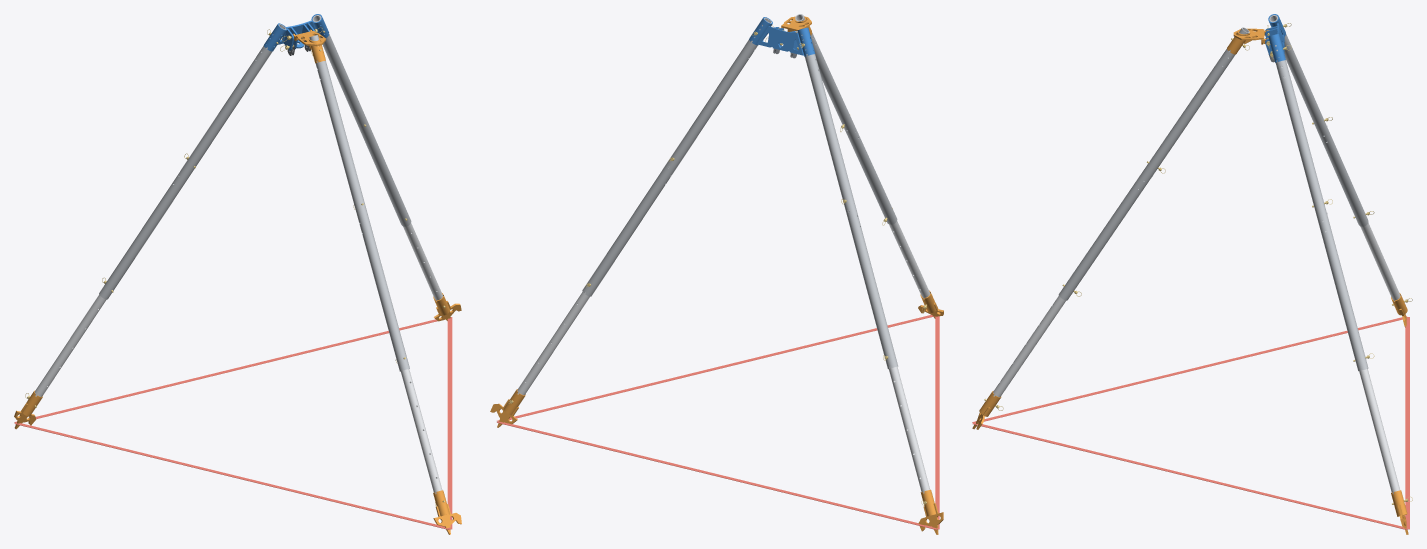
The model's file is tripode_v8.glb.
3 renders of one model, left to right at view 1: azimuth 30°, elevation 25°; view 2: azimuth 150°, elevation 25°; view 3: azimuth 270°, elevation 25°, orthographic.
Visible parts, largest first — view 1: n37_10G1, n38_10G2, n21_10I1, n22_10I2, n47_M3, n45_M1, n39_13G1, n29_10D1, n46_M2, n30_10D2, n23_13I1, n31_13D1 (+1 smaller); view 2: n21_10I1, n22_10I2, n29_10D1, n30_10D2, n45_M1, n46_M2, n23_13I1, n38_10G2, n31_13D1, n37_10G1, n47_M3, n39_13G1 (+3 smaller); view 3: n29_10D1, n30_10D2, n37_10G1, n38_10G2, n46_M2, n47_M3, n31_13D1, n22_10I2, n21_10I1, n39_13G1, n45_M1, n23_13I1.
Boxes of the visible parts, x1=… form: n37_10G1: x1=309, y1=35, x2=367, y2=217; n38_10G2: x1=358, y1=214, x2=409, y2=371; n21_10I1: x1=181, y1=24, x2=286, y2=175; n22_10I2: x1=99, y1=169, x2=189, y2=299; n47_M3: x1=14, y1=423, x2=450, y2=529; n45_M1: x1=14, y1=319, x2=437, y2=423; n39_13G1: x1=400, y1=369, x2=442, y2=493; n29_10D1: x1=312, y1=15, x2=369, y2=132; n46_M2: x1=447, y1=317, x2=452, y2=529; n30_10D2: x1=360, y1=127, x2=411, y2=226; n23_13I1: x1=34, y1=295, x2=106, y2=396; n31_13D1: x1=403, y1=223, x2=442, y2=300; n21_10I1: x1=801, y1=34, x2=856, y2=212; n22_10I2: x1=846, y1=210, x2=898, y2=369; n29_10D1: x1=666, y1=17, x2=771, y2=170; n30_10D2: x1=582, y1=165, x2=674, y2=296; n45_M1: x1=497, y1=421, x2=938, y2=529; n46_M2: x1=497, y1=314, x2=934, y2=421; n23_13I1: x1=889, y1=366, x2=930, y2=493; n38_10G2: x1=845, y1=126, x2=897, y2=224; n31_13D1: x1=517, y1=292, x2=589, y2=395; n37_10G1: x1=795, y1=14, x2=854, y2=131; n47_M3: x1=935, y1=316, x2=939, y2=529; n39_13G1: x1=889, y1=221, x2=930, y2=298; n29_10D1: x1=1275, y1=45, x2=1326, y2=216; n30_10D2: x1=1317, y1=213, x2=1368, y2=371; n37_10G1: x1=1143, y1=27, x2=1249, y2=177; n38_10G2: x1=1058, y1=171, x2=1152, y2=300; n46_M2: x1=972, y1=422, x2=1408, y2=529; n47_M3: x1=972, y1=316, x2=1406, y2=422; n31_13D1: x1=1359, y1=369, x2=1399, y2=493; n22_10I2: x1=1317, y1=126, x2=1368, y2=226; n21_10I1: x1=1269, y1=15, x2=1326, y2=132; n39_13G1: x1=993, y1=296, x2=1065, y2=397; n45_M1: x1=1405, y1=317, x2=1409, y2=529; n23_13I1: x1=1360, y1=223, x2=1400, y2=301.
Bounding box in the file's own units: 2911 × 2521 × 2486.
